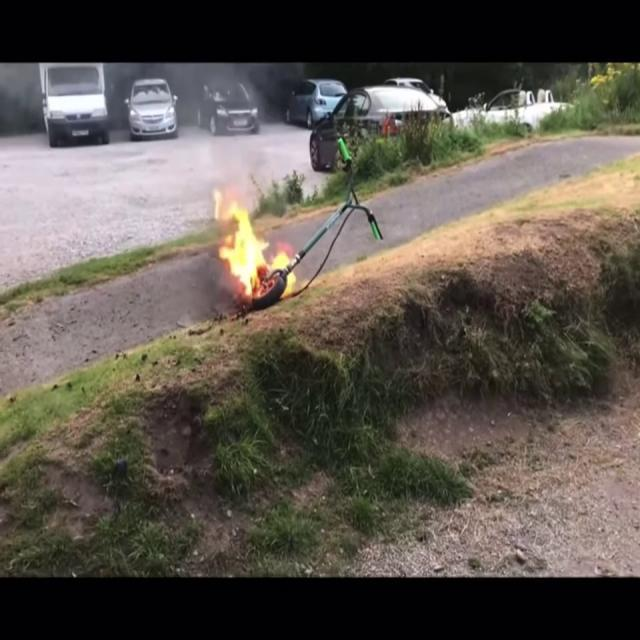Fire: (210, 186, 288, 298)
